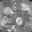people: (1, 16, 12, 28), (2, 7, 14, 16), (15, 17, 23, 25)
